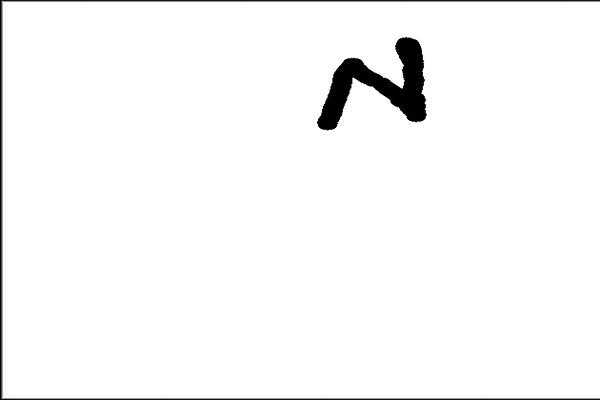N: (311, 33, 434, 133)
